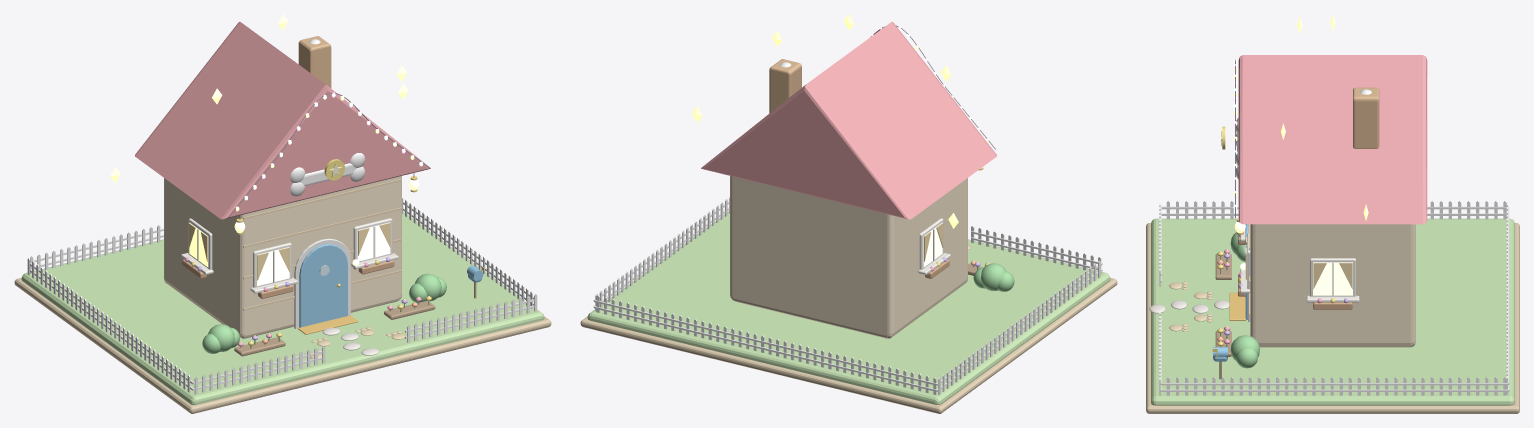
Rendered from building_pets_L10.glb.
The picture shows the model from 3 angles, left to right: view 1: azimuth 30°, elevation 25°; view 2: azimuth 150°, elevation 25°; view 3: azimuth 270°, elevation 25°; orthographic projection. The views are drawn at different scales.
Visible parts, largest first — view 1: pets_L10, object 3, object 2; view 2: pets_L10; view 3: pets_L10, object 5.
Boxes of the visible parts, x1,y1,x2,y2 form: pets_L10: (14,14,551,413); object 3: (357,222,390,261); object 2: (257,247,289,286); pets_L10: (580,14,1117,413); pets_L10: (1146,15,1519,413); object 5: (1313,262,1352,295).
Bounding box in the file's own units: 26.61 × 20.56 × 22.6.
